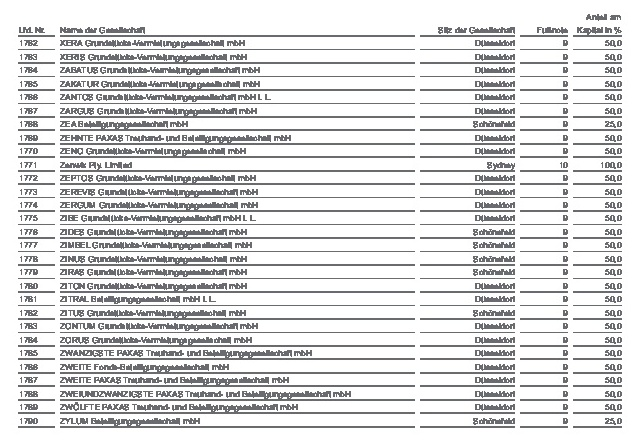table: (0, 0, 643, 448)
